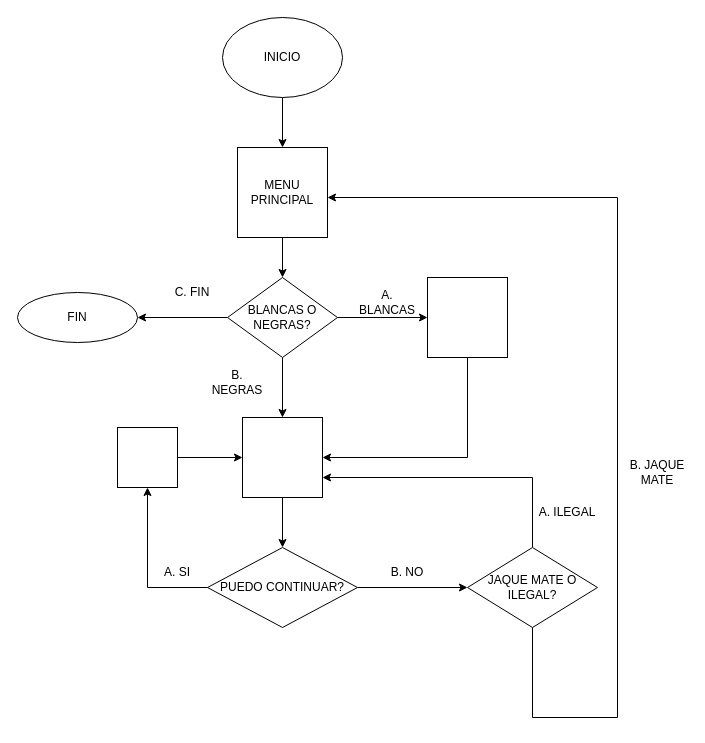
This 705x743 diagram has some shape labels left out. The shapes that lost their labels are listed below. From the top down, each one's centre as x and y in pixels, then its label:
the point at 467,317: APERTURA
the point at 147,457: MOVER
the point at 282,457: ESPERAR JUGADA
